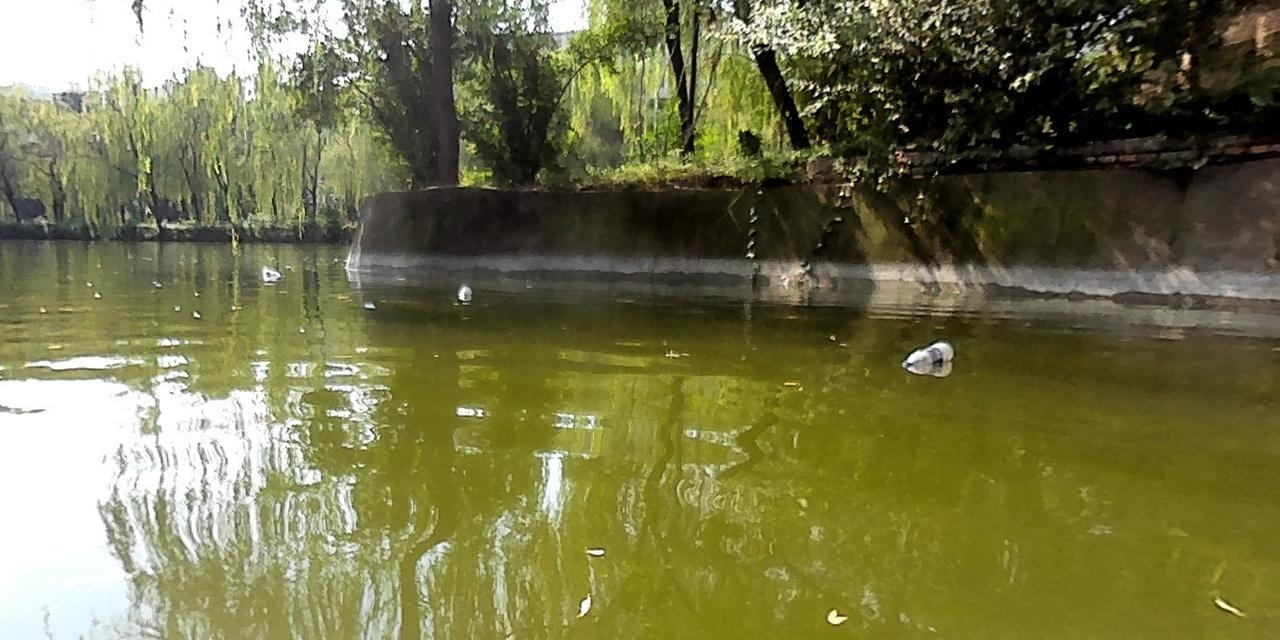bottle: (895, 337, 955, 374)
